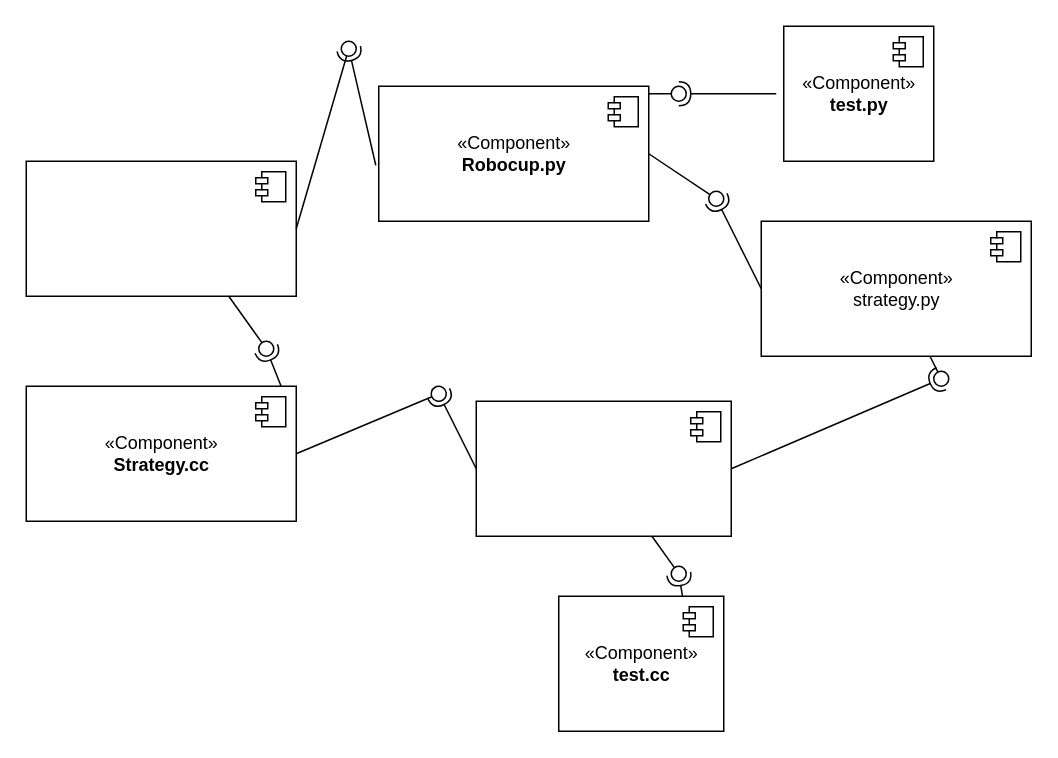
Image size: 1058x758. Some labels were removed from this diagram. The centre of each missing label's shape, as x and y in pixels:
"«Component» pyhelper.hpp" belongs at pixel 603 468.
"«Component» setup01.py" belongs at pixel 160 228.
